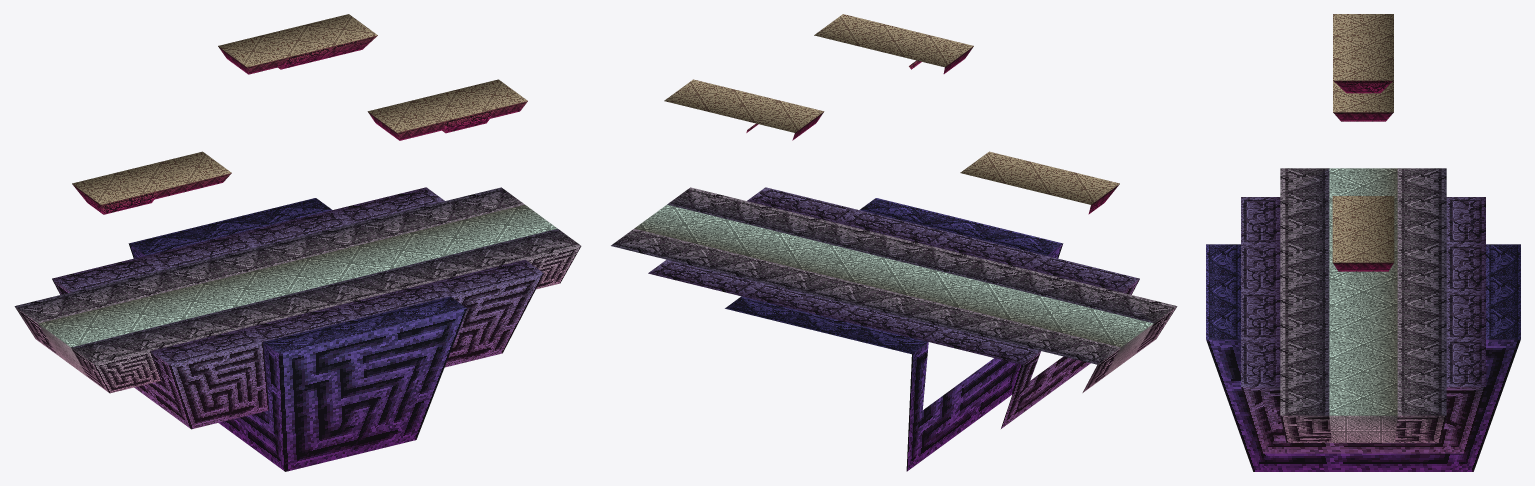
Rendered from Battlefield.glb.
3 views of the same model, side by side, from view 1: azimuth 30°, elevation 25°; view 2: azimuth 150°, elevation 25°; view 3: azimuth 270°, elevation 25° (orthographic). The views are drawn at different scales.
Parts seen in each view (by area): view 1: Battlefield_5, Battlefield_2, Battlefield_6, Battlefield_4, Battlefield_1, Battlefield_8, Battlefield_3, Battlefield_0, Battlefield_7, Battlefield_10, Battlefield_9; view 2: Battlefield_5, Battlefield_6, Battlefield_4, Battlefield_8, Battlefield_2, Battlefield_3, Battlefield_1, Battlefield_0; view 3: Battlefield_5, Battlefield_4, Battlefield_6, Battlefield_8, Battlefield_2, Battlefield_3, Battlefield_1, Battlefield_0, Battlefield_7, Battlefield_10.
Part boxes in pixels (bbox=[...]): Battlefield_5: bbox=[15, 187, 580, 364]; Battlefield_2: bbox=[129, 244, 466, 471]; Battlefield_6: bbox=[38, 204, 557, 376]; Battlefield_4: bbox=[52, 187, 543, 364]; Battlefield_1: bbox=[52, 273, 543, 429]; Battlefield_8: bbox=[72, 14, 527, 204]; Battlefield_3: bbox=[129, 198, 466, 354]; Battlefield_0: bbox=[15, 246, 581, 393]; Battlefield_7: bbox=[154, 46, 527, 199]; Battlefield_10: bbox=[72, 66, 495, 214]; Battlefield_9: bbox=[281, 35, 377, 69]; Battlefield_5: bbox=[611, 187, 1176, 364]; Battlefield_6: bbox=[634, 204, 1153, 376]; Battlefield_4: bbox=[648, 187, 1139, 364]; Battlefield_8: bbox=[664, 14, 1119, 204]; Battlefield_2: bbox=[906, 244, 1062, 471]; Battlefield_3: bbox=[725, 198, 1062, 354]; Battlefield_1: bbox=[1001, 279, 1139, 428]; Battlefield_0: bbox=[1082, 307, 1176, 392]; Battlefield_5: bbox=[1280, 168, 1446, 415]; Battlefield_4: bbox=[1241, 197, 1485, 386]; Battlefield_6: bbox=[1329, 168, 1397, 442]; Battlefield_8: bbox=[1332, 14, 1394, 262]; Battlefield_2: bbox=[1206, 339, 1520, 471]; Battlefield_3: bbox=[1206, 244, 1520, 339]; Battlefield_1: bbox=[1241, 387, 1485, 453]; Battlefield_0: bbox=[1280, 415, 1446, 442]; Battlefield_7: bbox=[1333, 112, 1393, 271]; Battlefield_10: bbox=[1333, 80, 1393, 93].
Bounding box in the file's own units: 488 × 360 × 263.
11 materials, 11 textured.
